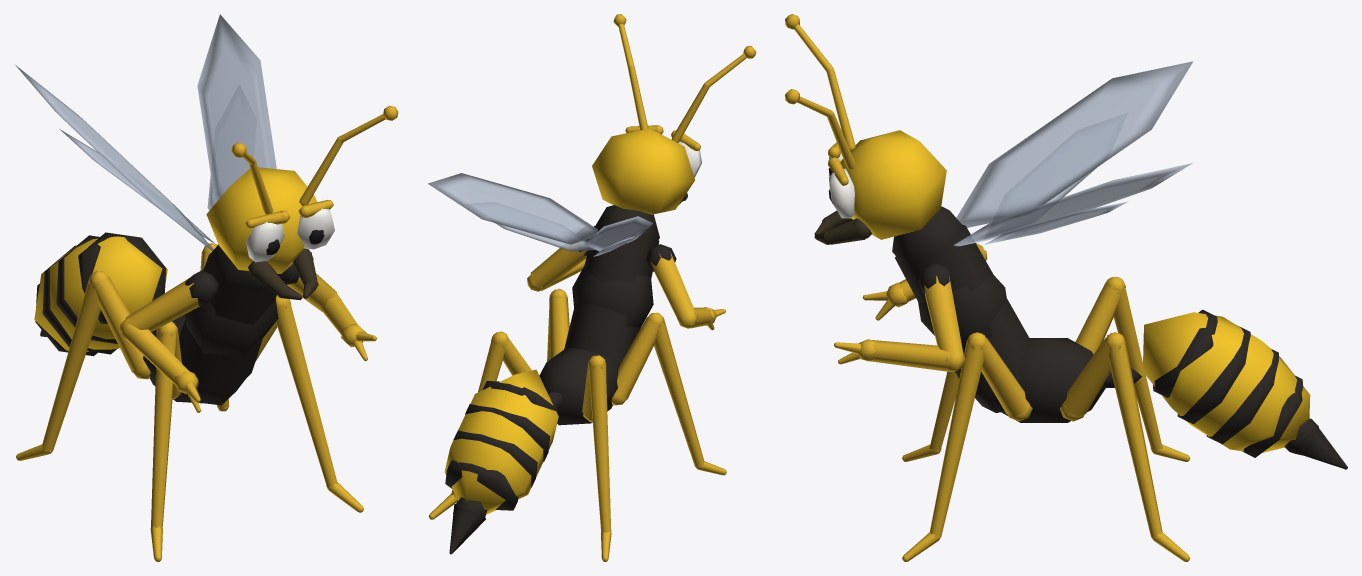
Rendered from yellowjacket_wasp_drone.glb.
The picture shows the model from 3 angles, left to right: view 1: azimuth 30°, elevation 25°; view 2: azimuth 150°, elevation 25°; view 3: azimuth 270°, elevation 25°; orthographic projection. The views are drawn at different scales.
Visible parts, largest first — view 1: Ant; view 2: Ant; view 3: Ant.
Part boxes in pixels (x1=…): Ant: x1=15, y1=14, x2=398, y2=561; Ant: x1=428, y1=14, x2=756, y2=561; Ant: x1=785, y1=14, x2=1347, y2=561.
Bounding box in the file's own units: 0.5826 × 1.21 × 1.35.
